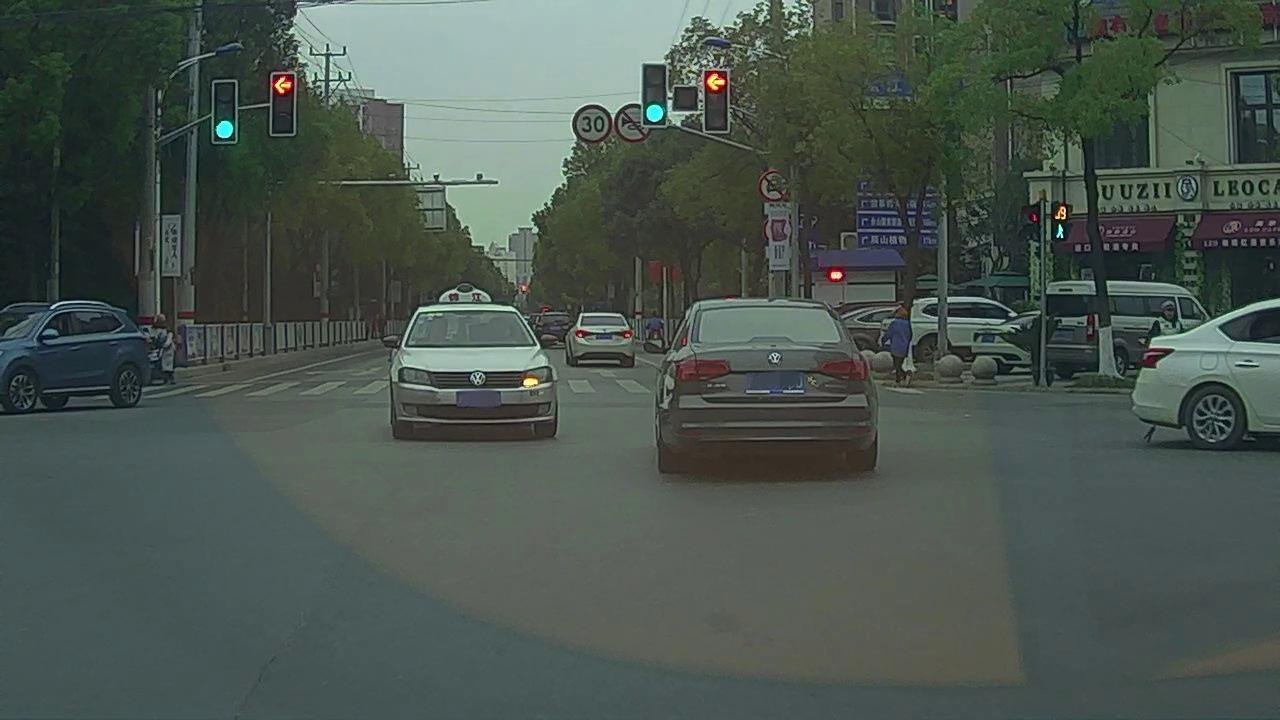traffic_light: (644, 65, 668, 127), (704, 69, 727, 132), (213, 81, 236, 142), (273, 75, 293, 134)
